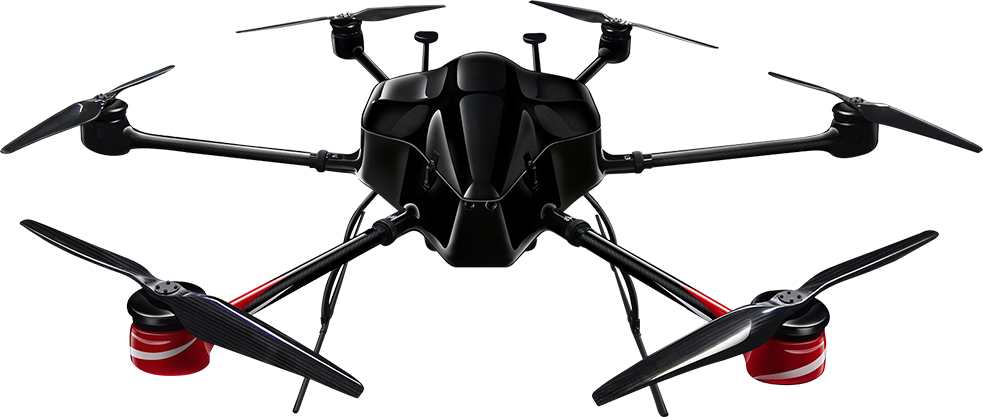drone: (1, 2, 983, 415)
